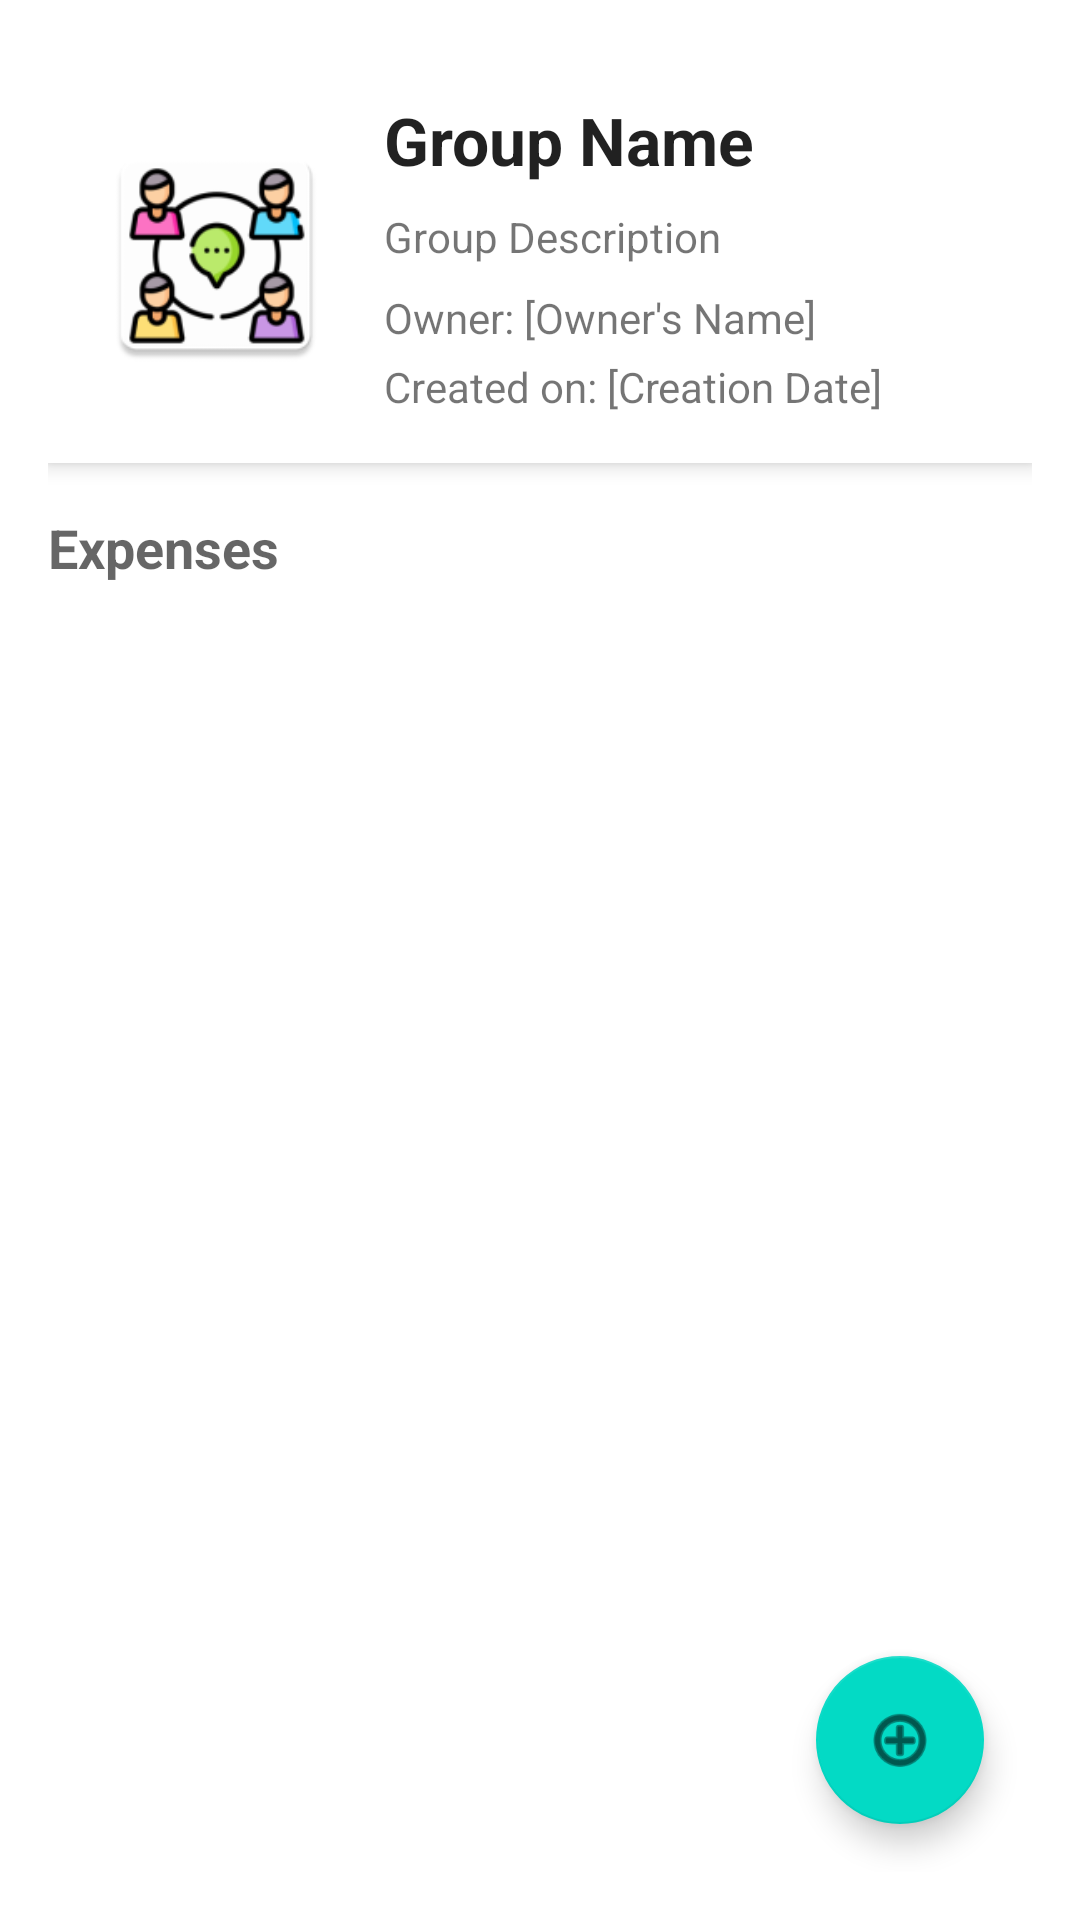

Screen size 1080*1920. Icon name, then its box in pixels as (x1, y1, x2, y2):
Button to add an expense: (816, 1656, 984, 1824)
